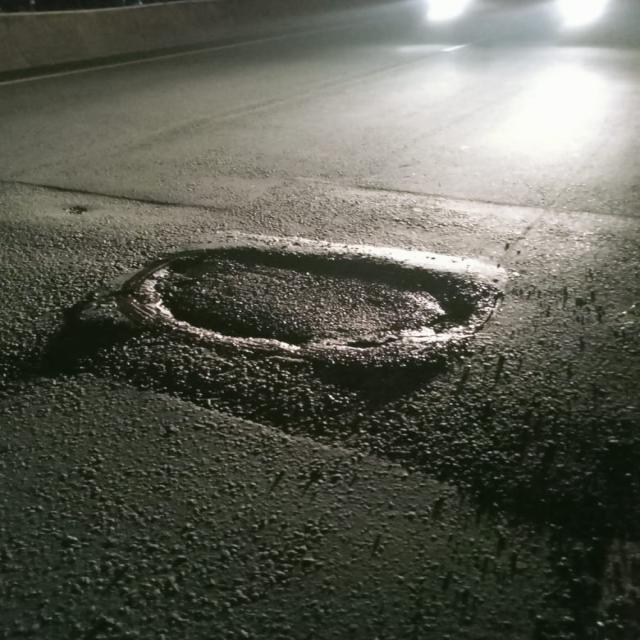Buraco: (114, 244, 500, 370)
